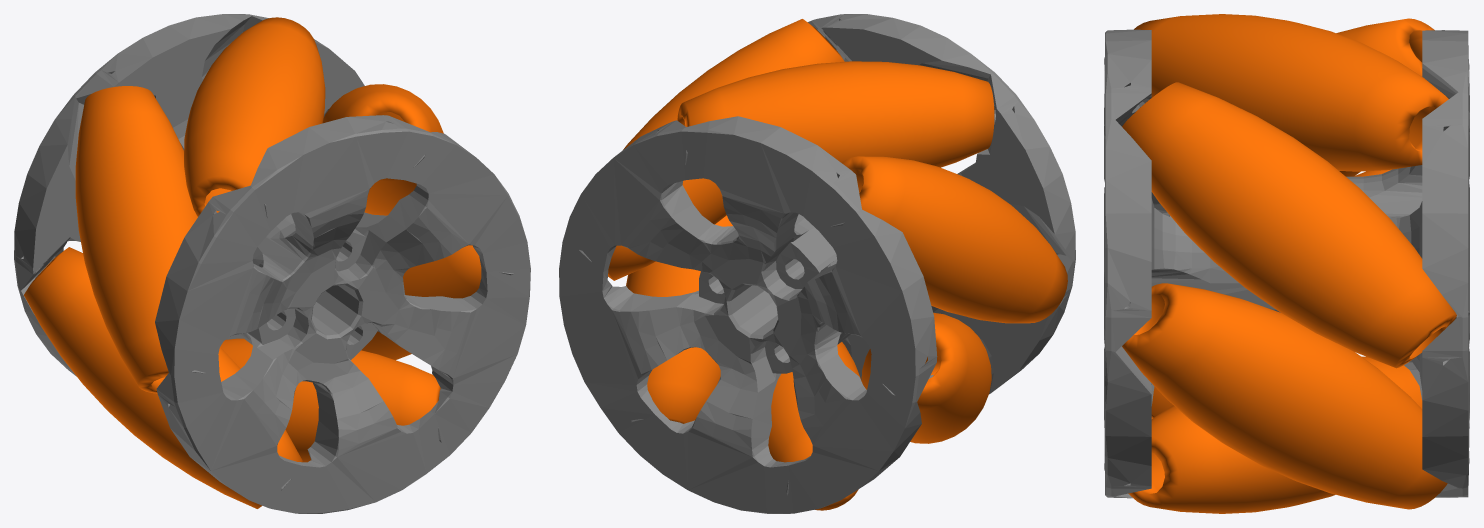
The model's file is back-left_wheel.dae.
3 renders of one model, left to right at view 1: azimuth 30°, elevation 25°; view 2: azimuth 150°, elevation 25°; view 3: azimuth 270°, elevation 25°, orthographic. The views are drawn at different scales.
Parts seen in each view (by area): view 1: front-left_wheel_join; view 2: front-left_wheel_join; view 3: front-left_wheel_join.
Part boxes in pixels (x1,y1,x2,y2): front-left_wheel_join: (14,14,530,513); front-left_wheel_join: (559,14,1075,513); front-left_wheel_join: (1104,14,1469,513).
Size of the model in its own units: 0.0999 by 0.0731 by 0.0997.
